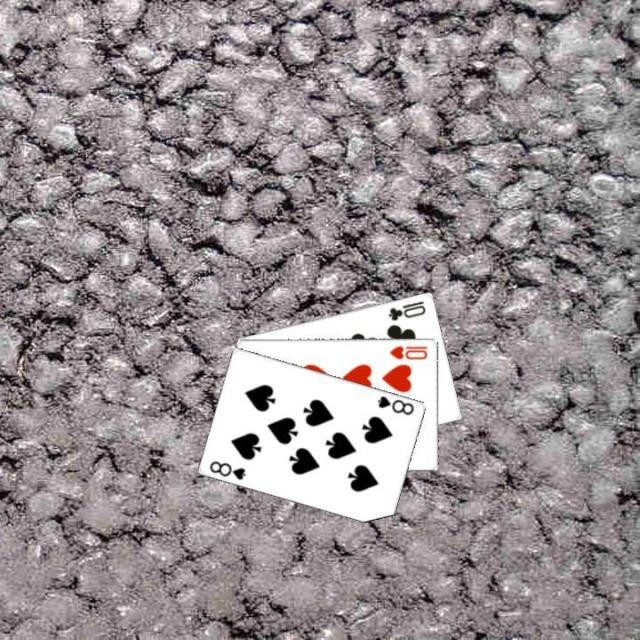10C: (385, 297, 427, 322)
10H: (386, 341, 429, 361)
8S: (373, 392, 416, 417), (206, 457, 248, 482)
